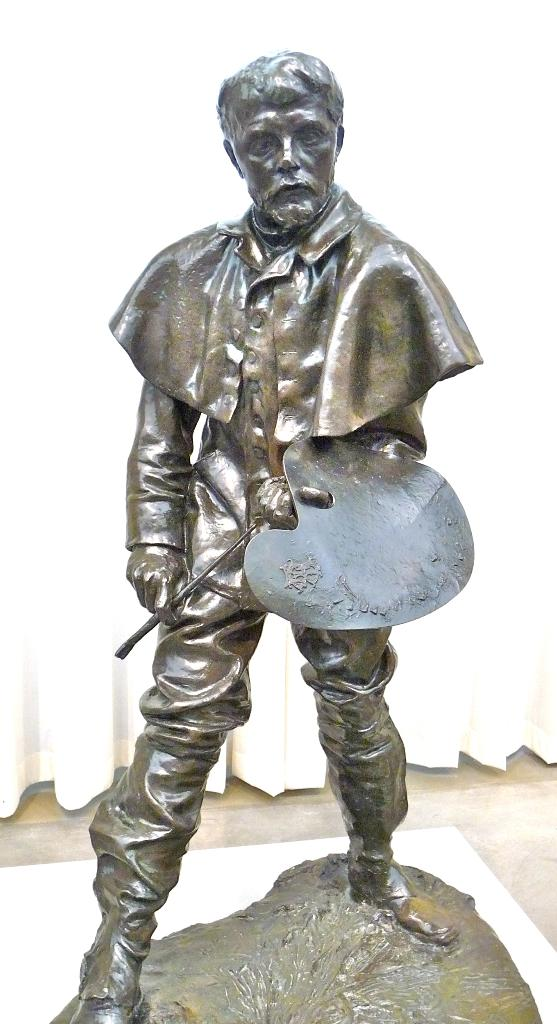face: (246, 82, 332, 232)
